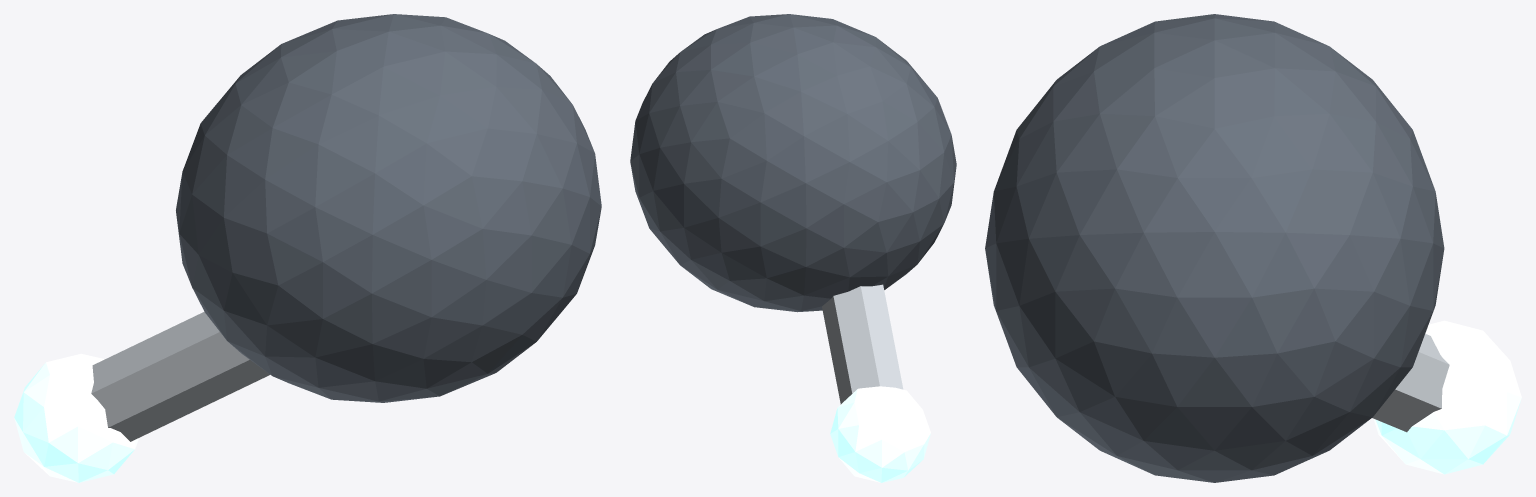
The model's file is agarre_3.glb.
The picture shows the model from 3 angles, left to right: view 1: azimuth 30°, elevation 25°; view 2: azimuth 150°, elevation 25°; view 3: azimuth 270°, elevation 25°; orthographic projection. The views are drawn at different scales.
Parts seen in each view (by area): view 1: nucleo, brazo, punta; view 2: nucleo, punta, brazo; view 3: nucleo, punta, brazo.
Boxes of the visible parts, bbox=[...] form: nucleo: bbox=[176, 14, 601, 402]; brazo: bbox=[91, 311, 269, 441]; punta: bbox=[14, 353, 138, 482]; nucleo: bbox=[630, 14, 956, 312]; punta: bbox=[830, 386, 930, 482]; brazo: bbox=[822, 284, 903, 404]; nucleo: bbox=[985, 14, 1444, 482]; punta: bbox=[1373, 320, 1521, 474]; brazo: bbox=[1372, 334, 1449, 432].
Bounding box in the file's own units: 0.9 × 0.8748 × 0.7756.
